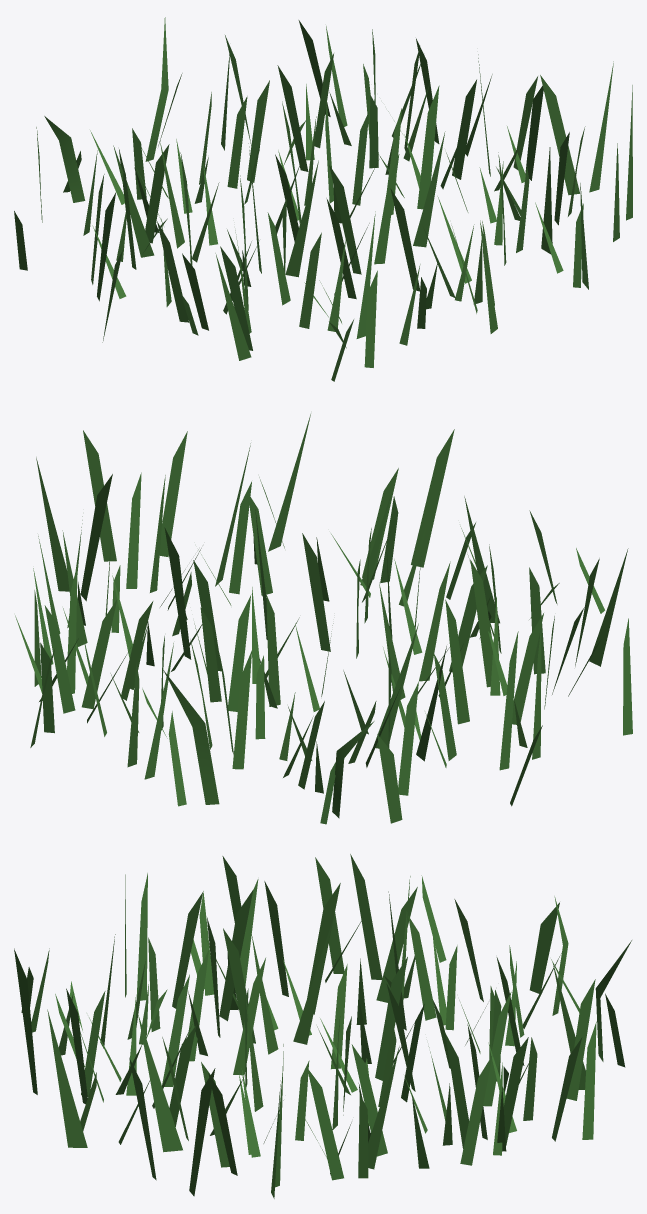
File: low_grass_2.glb
The picture shows the model from 3 angles, top to bottom: view 1: azimuth 30°, elevation 25°; view 2: azimuth 150°, elevation 25°; view 3: azimuth 270°, elevation 25°; orthographic projection. The views are drawn at different scales.
Parts seen in each view (by area): view 1: GrassLOD2; view 2: GrassLOD2; view 3: GrassLOD2.
Part boxes in pixels (box(x1,y1,x2,y2)): GrassLOD2: box(14, 17, 632, 381); GrassLOD2: box(15, 414, 632, 824); GrassLOD2: box(14, 854, 631, 1198).
Size of the model in its own units: 0.8627 by 0.2243 by 0.8172.
